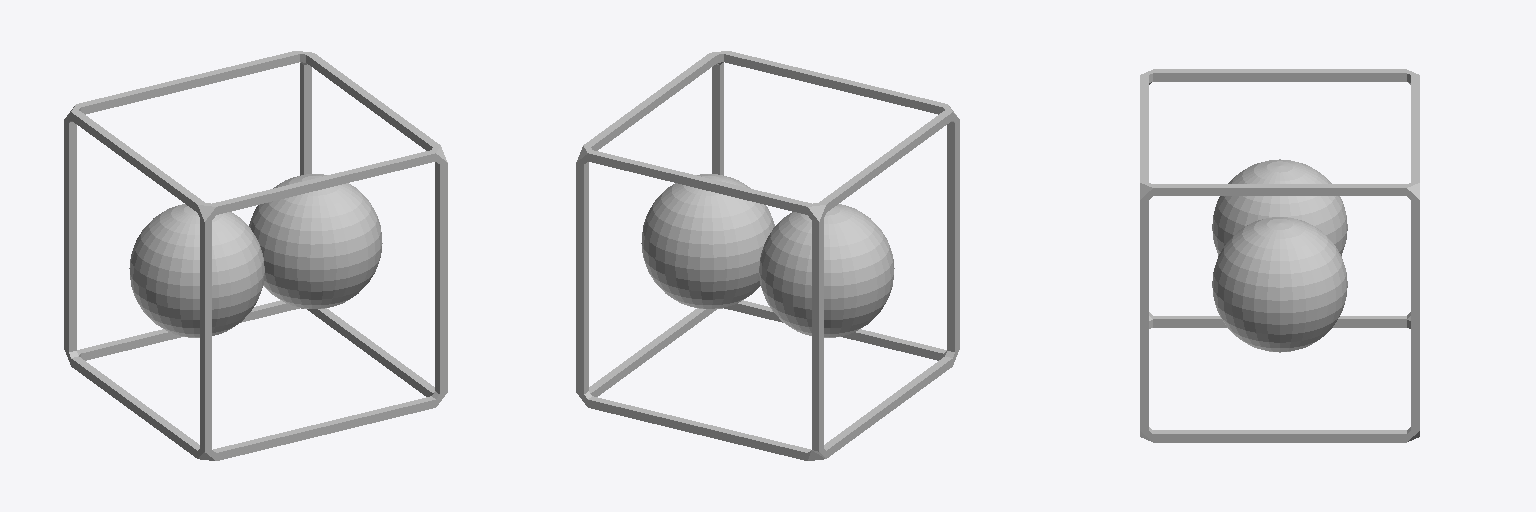
Rendered from stage_1.obj.
The picture shows the model from 3 angles: view 1: azimuth 30°, elevation 25°; view 2: azimuth 150°, elevation 25°; view 3: azimuth 270°, elevation 25°; orthographic projection.
Visible parts, largest first — view 1: Cube_Cube.002, Sphere.001, Sphere; view 2: Cube_Cube.002, Sphere.001, Sphere; view 3: Cube_Cube.002, Sphere.001, Sphere.
Part boxes in pixels (x1,y1,x2,y2): Cube_Cube.002: (64,51,447,460); Sphere.001: (249,174,382,308); Sphere: (129,204,264,337); Cube_Cube.002: (576,51,959,460); Sphere.001: (641,174,774,308); Sphere: (759,204,894,337); Cube_Cube.002: (1140,69,1419,442); Sphere.001: (1212,217,1347,352); Sphere: (1212,159,1347,255).
Size of the model in its own units: 1.03 by 1.03 by 1.03.